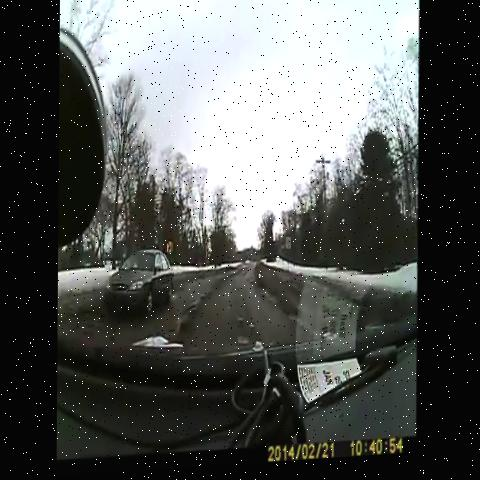pothole: (167, 288, 219, 341)
